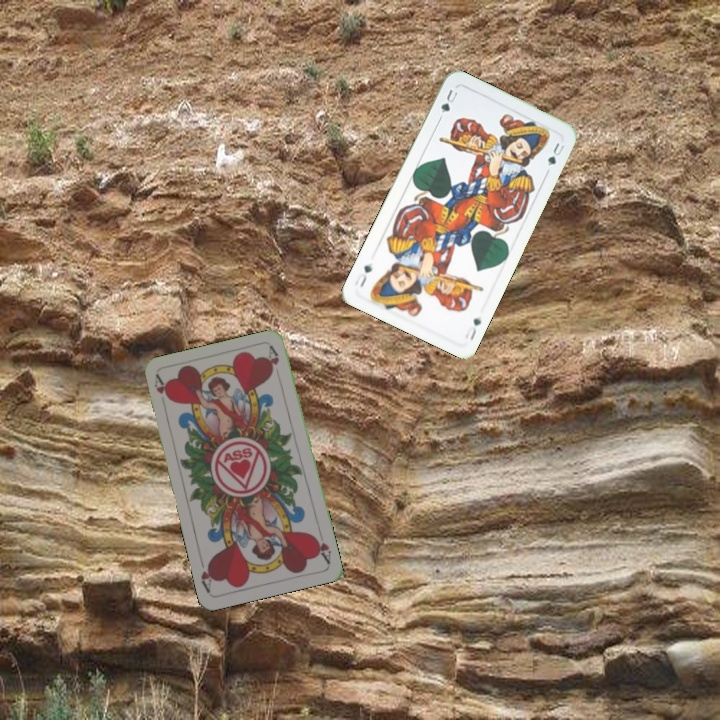GU: (437, 85, 460, 117), (461, 314, 484, 343)
HA: (310, 526, 334, 566), (150, 371, 173, 403)
